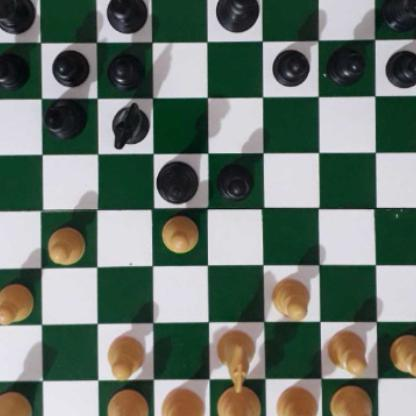black-bishop: (41, 100, 88, 139), (102, 0, 150, 33)
black-king: (214, 0, 259, 35)
black-knight: (110, 100, 147, 145)
black-pawn: (214, 159, 255, 200), (271, 45, 309, 86), (51, 46, 88, 87), (107, 47, 143, 88), (328, 45, 365, 83), (384, 46, 416, 88), (0, 48, 29, 87)
black-queen: (156, 159, 198, 203)
black-rook: (0, 0, 35, 33), (383, 0, 416, 30)
white-bishop: (274, 385, 319, 416), (107, 385, 146, 416)
white-king: (216, 383, 263, 416)
white-knight: (215, 328, 258, 393)
white-pawn: (326, 327, 370, 373), (44, 222, 87, 265), (104, 333, 145, 378), (270, 274, 309, 319), (160, 214, 198, 253), (0, 281, 33, 323), (388, 331, 416, 375)
white-queen: (159, 386, 205, 416)
white-rook: (329, 388, 381, 416), (0, 386, 30, 416)
